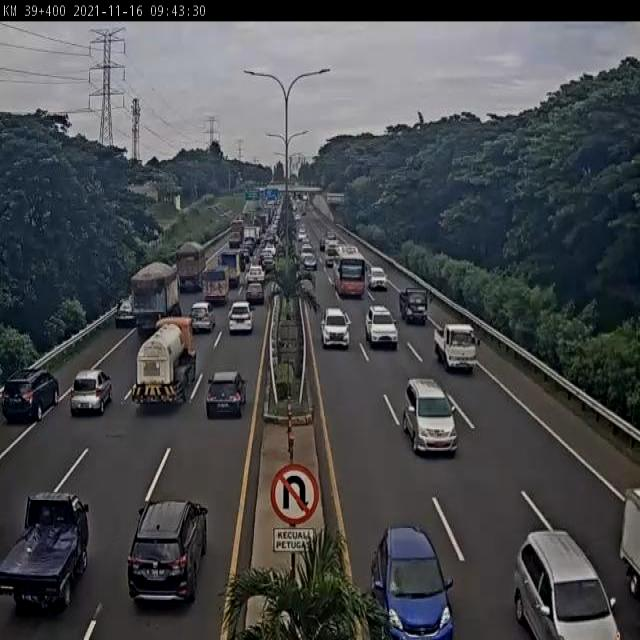Bus: (331, 242, 368, 299)
Car: (514, 529, 621, 638), (0, 492, 90, 610), (126, 494, 210, 610), (372, 524, 454, 638), (402, 378, 458, 454), (0, 367, 58, 423), (434, 322, 477, 375), (205, 370, 248, 419), (70, 368, 112, 416), (364, 305, 398, 350), (320, 307, 352, 350), (399, 286, 428, 324), (189, 302, 216, 334), (228, 301, 254, 334), (115, 297, 136, 329), (368, 266, 388, 291), (245, 281, 265, 306)
Truck: (131, 315, 198, 406), (131, 264, 182, 332), (176, 241, 206, 285), (202, 263, 230, 303)
